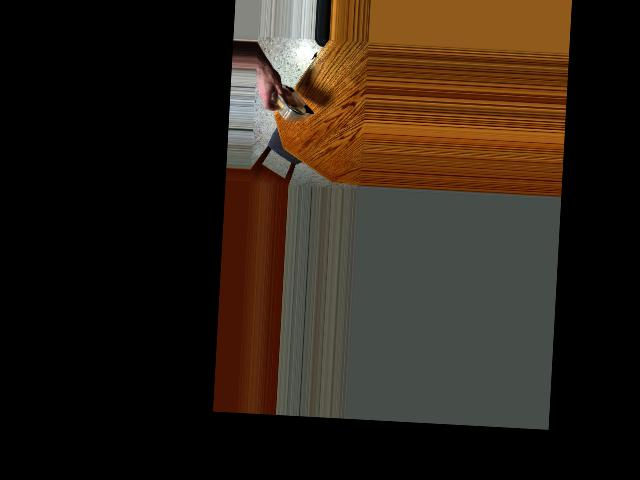cheese: (267, 69, 313, 131)
